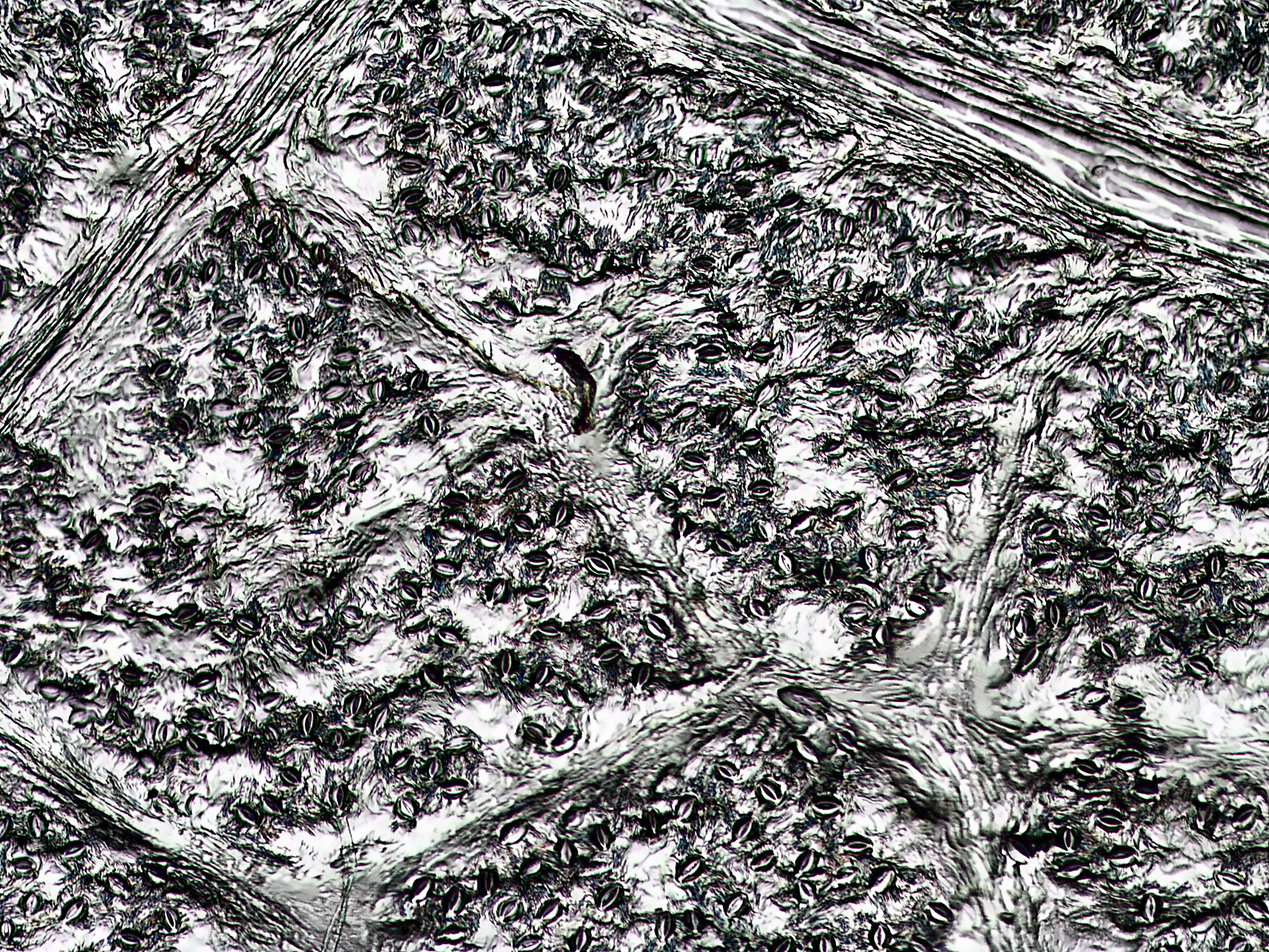stomata: (730, 813, 760, 846), (347, 460, 378, 490), (753, 776, 781, 808), (867, 866, 896, 895), (1107, 751, 1147, 772), (675, 855, 705, 883), (794, 734, 820, 766), (1004, 834, 1033, 862), (752, 380, 781, 408), (443, 884, 466, 919), (841, 834, 874, 858), (643, 613, 671, 641), (561, 681, 589, 709), (60, 896, 88, 924), (499, 818, 528, 845), (810, 794, 844, 817), (630, 661, 655, 692), (582, 553, 614, 577), (1232, 804, 1260, 831), (832, 727, 859, 755), (596, 884, 624, 911), (1212, 870, 1246, 892), (1185, 655, 1216, 679), (128, 494, 165, 514), (575, 79, 603, 105), (419, 36, 444, 65), (500, 469, 529, 494), (693, 343, 729, 363), (774, 549, 798, 579), (438, 92, 464, 119), (536, 898, 563, 924), (950, 307, 975, 335), (485, 578, 510, 606), (408, 876, 433, 904), (379, 25, 403, 54), (925, 902, 954, 926), (840, 603, 873, 624), (654, 910, 675, 943), (549, 164, 572, 194), (1128, 779, 1158, 802), (468, 17, 490, 48), (1140, 893, 1162, 924), (675, 794, 697, 825), (589, 824, 615, 850), (498, 896, 524, 922), (395, 795, 420, 822), (677, 451, 709, 472), (859, 545, 883, 573), (232, 613, 261, 636), (476, 868, 499, 897), (492, 162, 514, 192), (398, 188, 431, 208), (1054, 860, 1087, 880), (830, 500, 860, 522), (869, 922, 891, 952), (213, 311, 244, 332), (436, 520, 467, 541), (905, 594, 930, 620), (723, 892, 749, 917), (146, 309, 174, 332), (147, 358, 175, 381), (1086, 548, 1118, 568), (435, 924, 467, 944), (464, 122, 493, 144), (710, 532, 739, 554), (480, 75, 510, 96), (298, 709, 319, 739), (28, 808, 49, 838), (446, 166, 472, 190), (1095, 638, 1121, 662), (795, 849, 819, 875), (298, 495, 324, 519), (499, 30, 522, 57), (552, 730, 579, 753), (1115, 695, 1146, 715), (8, 140, 36, 162), (1102, 331, 1124, 359), (638, 417, 660, 445), (551, 501, 573, 529), (104, 872, 132, 894), (1193, 69, 1214, 98), (1108, 846, 1137, 867), (886, 469, 915, 490), (6, 537, 35, 558), (520, 116, 552, 135), (952, 356, 984, 375), (375, 80, 399, 105), (398, 124, 428, 144), (492, 299, 517, 323), (921, 567, 945, 592), (778, 221, 804, 244), (422, 664, 445, 690), (142, 862, 168, 885), (563, 806, 589, 829), (9, 188, 36, 210), (1018, 647, 1040, 674), (525, 550, 552, 572), (310, 632, 332, 659), (21, 890, 43, 917), (279, 262, 298, 293), (539, 54, 570, 73), (789, 298, 820, 317), (936, 381, 967, 400), (166, 264, 187, 292), (401, 218, 422, 246), (1030, 519, 1058, 540), (1032, 553, 1060, 574), (1095, 811, 1123, 832), (1169, 376, 1189, 405), (260, 363, 289, 383), (208, 399, 237, 419), (557, 838, 577, 867), (1156, 631, 1180, 655), (628, 352, 660, 370), (751, 518, 775, 542), (898, 521, 930, 539), (243, 259, 266, 284), (1202, 616, 1225, 641), (81, 530, 106, 553), (653, 167, 675, 193), (1205, 551, 1227, 577), (817, 559, 839, 585), (794, 879, 816, 905), (684, 908, 706, 934), (212, 208, 233, 235), (1045, 600, 1066, 627), (823, 375, 850, 396), (328, 781, 349, 808), (583, 601, 616, 618), (827, 340, 855, 360), (834, 866, 862, 886), (1036, 10, 1059, 34), (1057, 826, 1080, 850), (168, 411, 192, 434), (289, 312, 308, 341), (322, 382, 351, 401), (1141, 350, 1163, 375), (571, 927, 593, 952), (74, 84, 100, 105), (604, 167, 625, 193), (1219, 482, 1245, 503), (750, 850, 776, 871), (403, 610, 429, 631), (257, 221, 277, 248), (399, 154, 426, 174), (1080, 595, 1107, 615), (747, 479, 774, 499), (331, 347, 358, 367), (161, 906, 181, 933), (560, 209, 579, 237), (516, 933, 544, 952), (519, 856, 542, 879), (339, 606, 363, 628), (617, 384, 648, 401), (1145, 512, 1170, 533), (1198, 430, 1219, 455), (1229, 596, 1254, 617), (497, 649, 518, 674), (191, 672, 216, 693), (879, 364, 908, 382), (173, 60, 193, 86), (616, 85, 642, 105), (371, 705, 391, 731), (441, 779, 467, 799), (202, 258, 221, 285), (1228, 329, 1247, 356), (595, 643, 622, 662), (330, 728, 349, 755), (944, 468, 974, 485), (1014, 614, 1036, 637), (1244, 50, 1265, 74), (739, 427, 763, 448), (407, 368, 428, 392), (1138, 418, 1158, 443), (1137, 575, 1157, 600), (368, 377, 388, 402), (419, 412, 439, 437), (439, 493, 470, 509), (134, 94, 160, 113), (748, 342, 774, 361), (311, 242, 330, 268), (61, 840, 87, 859), (888, 237, 917, 254), (324, 290, 353, 307), (431, 560, 460, 577), (776, 192, 803, 210), (940, 428, 967, 446), (511, 514, 533, 536), (390, 752, 412, 774), (5, 645, 27, 667), (57, 19, 77, 43), (1207, 15, 1227, 39), (658, 482, 682, 502), (260, 692, 284, 712), (185, 733, 205, 757), (513, 224, 530, 252), (1081, 688, 1109, 705), (444, 736, 472, 753), (144, 9, 169, 28), (699, 488, 724, 507), (673, 512, 692, 537), (525, 585, 550, 604), (532, 663, 551, 688), (596, 123, 618, 144), (987, 250, 1008, 272), (1219, 372, 1241, 393), (261, 794, 283, 815), (235, 804, 256, 826), (120, 928, 142, 949), (1127, 3, 1147, 26), (710, 407, 730, 430), (865, 200, 882, 227), (1177, 584, 1204, 601), (534, 621, 561, 638), (190, 35, 214, 54), (479, 205, 498, 229), (830, 268, 849, 292), (716, 311, 740, 330), (478, 529, 502, 548), (722, 213, 747, 231), (533, 297, 558, 315), (219, 348, 244, 366), (283, 464, 308, 482), (522, 722, 547, 740), (12, 856, 37, 874), (1073, 760, 1099, 777), (672, 402, 698, 419), (185, 706, 206, 727), (1115, 485, 1137, 505), (749, 597, 771, 617), (397, 581, 419, 601), (130, 50, 153, 69), (777, 119, 800, 138), (1156, 52, 1175, 75), (346, 692, 365, 715), (175, 603, 198, 622), (715, 761, 739, 779), (437, 627, 461, 645), (115, 705, 134, 727), (268, 426, 292, 443), (424, 757, 443, 778), (1100, 439, 1122, 457), (624, 59, 648, 75), (157, 721, 173, 745), (50, 122, 69, 142), (42, 681, 62, 700), (1143, 464, 1164, 482), (856, 416, 877, 434), (633, 144, 658, 159), (840, 216, 855, 241), (279, 768, 301, 785), (950, 205, 966, 228), (1104, 403, 1127, 419), (46, 575, 69, 591), (545, 265, 573, 278), (673, 224, 691, 244), (1084, 505, 1108, 520), (1246, 563, 1267, 580), (727, 151, 749, 167), (691, 255, 716, 269), (688, 146, 703, 169), (685, 79, 708, 94), (862, 281, 879, 301), (242, 409, 257, 431), (215, 720, 230, 742), (120, 667, 142, 682), (769, 270, 791, 284), (1140, 29, 1162, 42), (34, 462, 53, 477), (590, 38, 610, 52), (686, 283, 711, 294), (683, 194, 703, 207), (633, 248, 645, 268)
